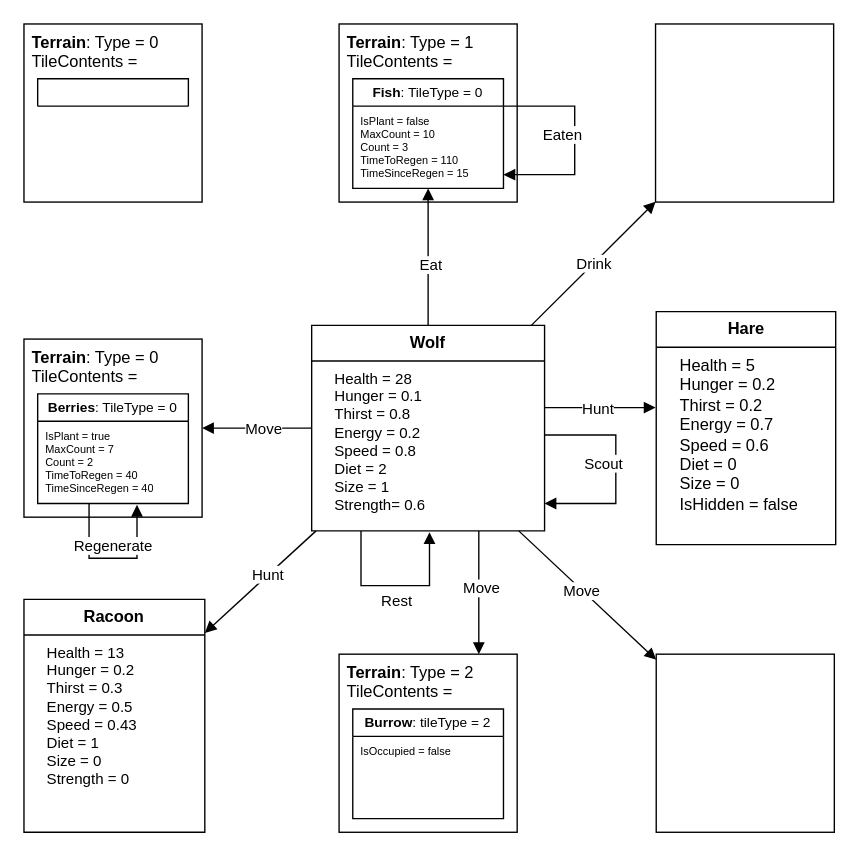
Some shapes in this 860 by 860 pixel diagram are drawn without their labels. Each missing label, with the centre of its shape:
"Terrain : Type = 1 TileContents = null" belongs at [744,112].
"Terrain : Type = 2 TileContents = null" belongs at [744,742].
"Tree : TileType = 1" belongs at [112,91].
